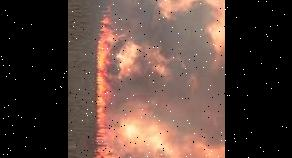fire: (90, 0, 148, 158)
